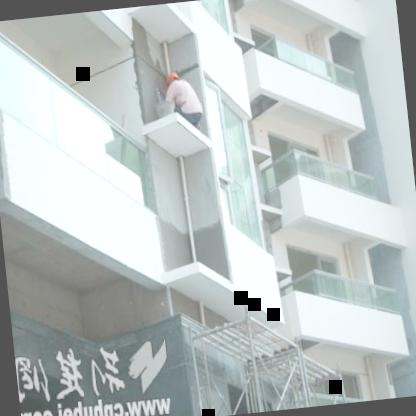helmet: (161, 67, 182, 92)
